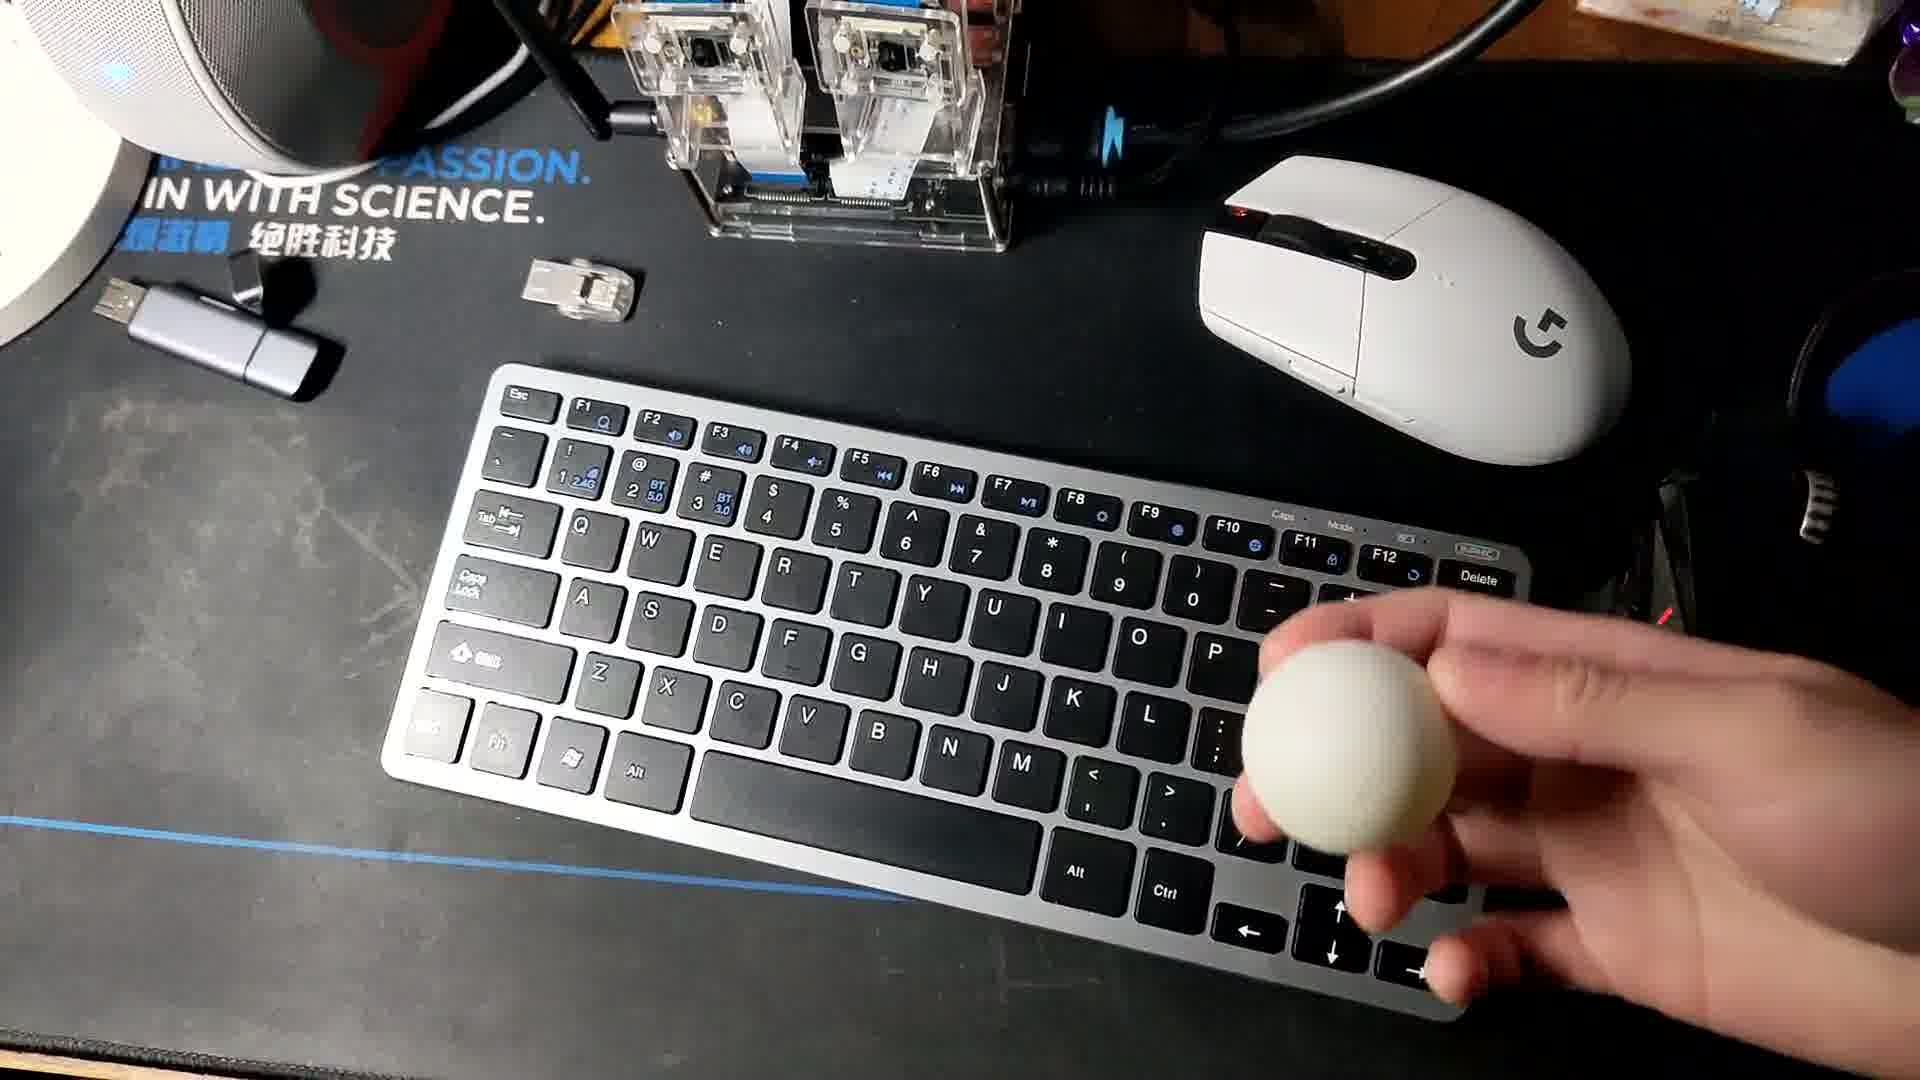Ball: (1244, 641, 1464, 862)
